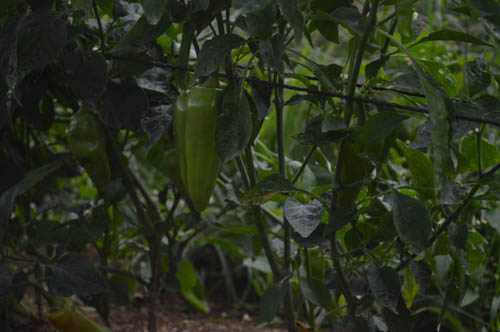ChiliPepper: (188, 87, 220, 209), (67, 117, 110, 187), (174, 95, 190, 189)
